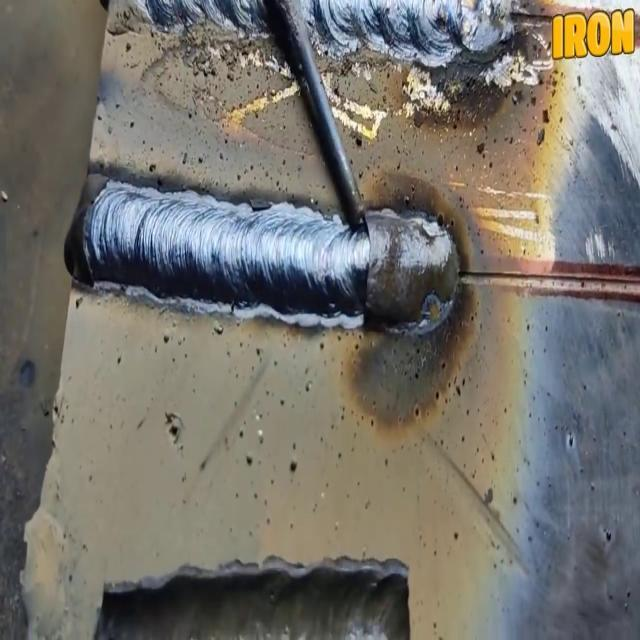Good Weld: (106, 185, 352, 318)
